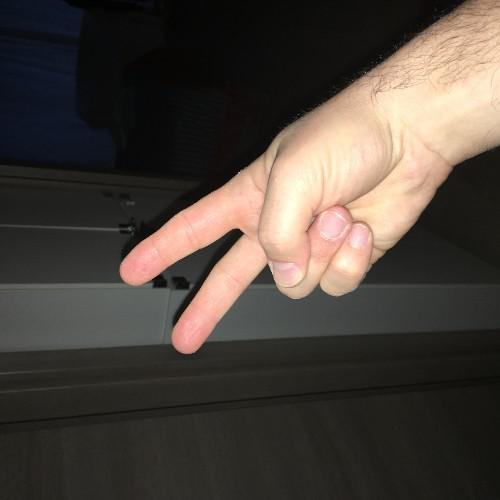scissors: (108, 69, 461, 368)
